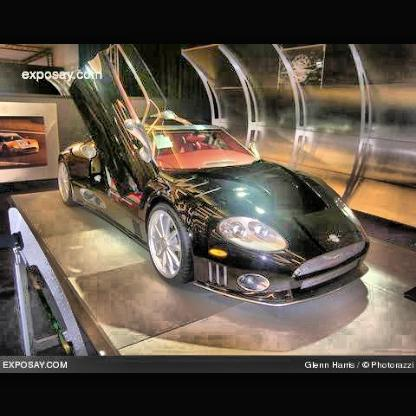Spyker C8 Convertible 2009: (57, 44, 374, 310)
